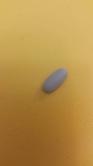Apranax: (40, 67, 69, 94)
